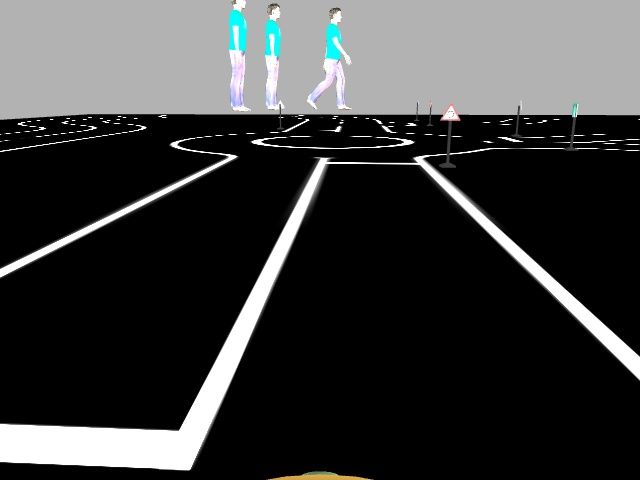Roundabout: (436, 102, 461, 122)
